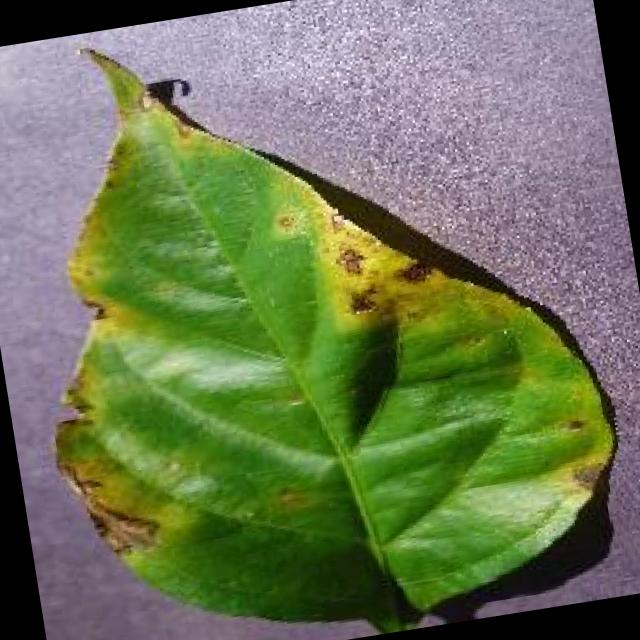Chilli_Bacterial_Spot: (0, 0, 640, 640), (318, 197, 446, 330), (124, 76, 205, 158), (264, 199, 310, 247), (265, 478, 315, 518), (340, 280, 385, 321), (391, 254, 438, 290), (332, 242, 369, 282), (268, 208, 302, 240), (558, 412, 589, 439)
